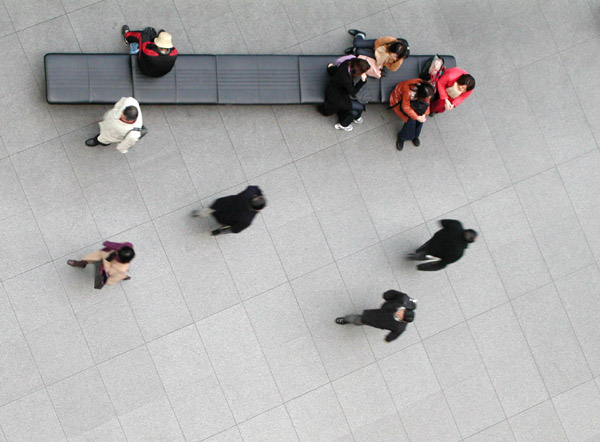person: (333, 288, 420, 343), (189, 181, 271, 239), (403, 217, 481, 273), (64, 239, 141, 292), (85, 94, 150, 156), (321, 58, 370, 134), (118, 24, 179, 79), (346, 20, 410, 72), (391, 78, 434, 151), (432, 66, 477, 119)
